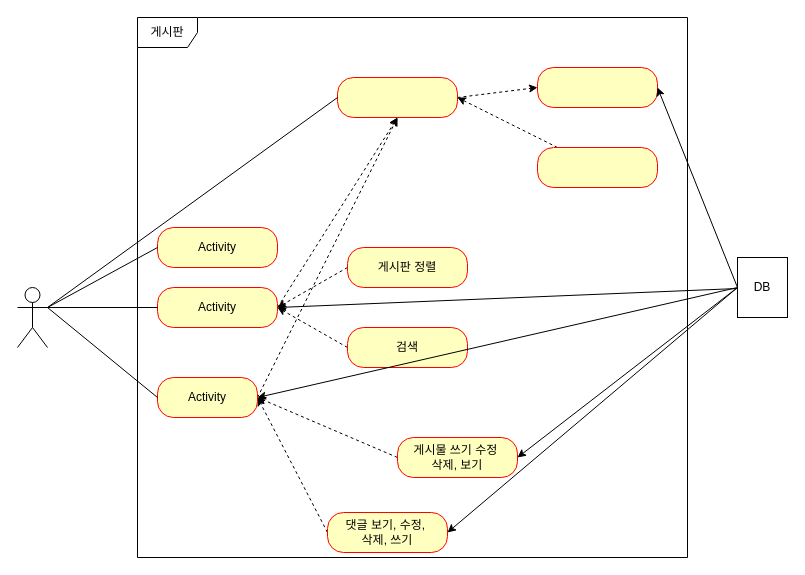
Image size: 805x575. Some labels were removed from this diagram. Each missing label, with the box of its shape:
Actor: (16, 286, 48, 348)
로그인: (336, 76, 458, 118)
로그인 실패: (536, 146, 658, 188)
인증: (536, 66, 658, 108)
